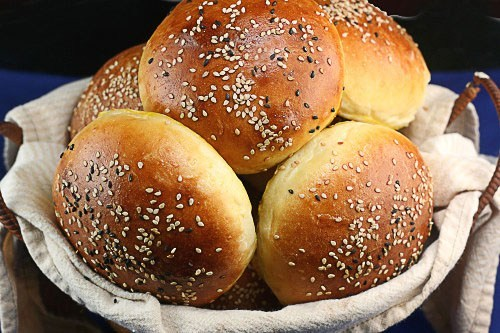hamburger_buns: (135, 1, 438, 193), (221, 98, 450, 298), (44, 108, 256, 303)
